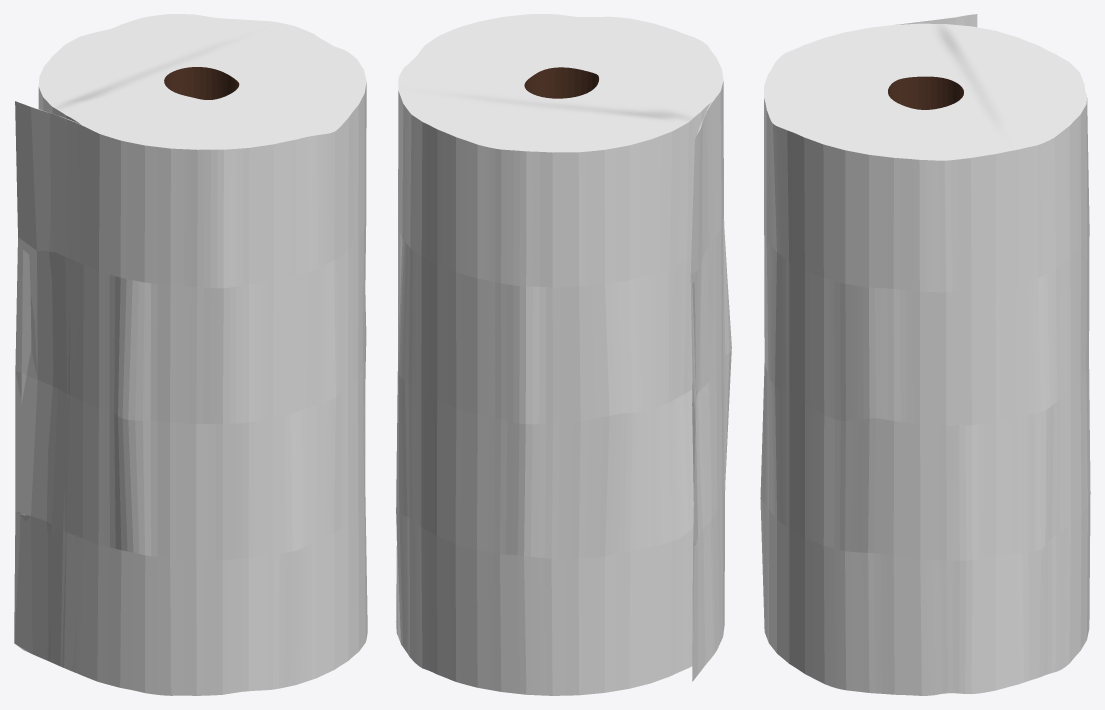
Rendered from papertowel.gltf.
3 views of the same model, side by side, from view 1: azimuth 30°, elevation 25°; view 2: azimuth 150°, elevation 25°; view 3: azimuth 270°, elevation 25° (orthographic). The views are drawn at different scales.
Parts seen in each view (by area): view 1: papertowel; view 2: papertowel; view 3: papertowel.
Boxes of the visible parts, x1,y1,x2,y2 form: papertowel: (14,14,367,695); papertowel: (396,14,731,695); papertowel: (760,14,1090,695).
Size of the model in its own units: 0.1545 by 0.2702 by 0.148.
Materials: 1 (1 with a texture image).
